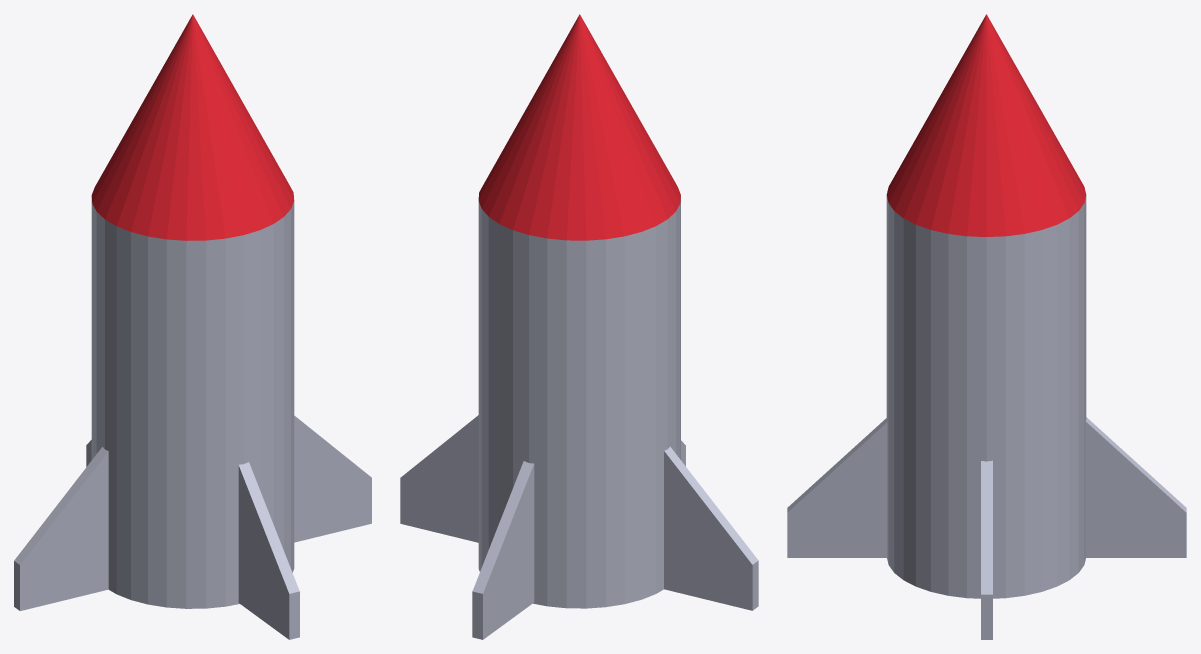
File: rocket.glb
The picture shows the model from 3 angles, left to right: view 1: azimuth 30°, elevation 25°; view 2: azimuth 150°, elevation 25°; view 3: azimuth 270°, elevation 25°; orthographic projection.
Visible parts, largest first — view 1: Cylinder, Cone, Cube, Cube.002, Cube.001; view 2: Cylinder, Cone, Cube, Cube.003, Cube.002; view 3: Cylinder, Cone, Cube.003, Cube.001, Cube.002.
Part boxes in pixels (left/top/right/bottom): Cylinder: left=91, top=198, right=294, bottom=608; Cone: left=91, top=14, right=294, bottom=240; Cube: left=14, top=447, right=108, bottom=610; Cube.002: left=294, top=415, right=371, bottom=542; Cube.001: left=238, top=462, right=299, bottom=639; Cylinder: left=478, top=198, right=680, bottom=608; Cone: left=478, top=14, right=680, bottom=240; Cube: left=664, top=446, right=758, bottom=610; Cube.003: left=472, top=461, right=534, bottom=639; Cube.002: left=400, top=415, right=478, bottom=542; Cylinder: left=886, top=196, right=1086, bottom=598; Cone: left=886, top=14, right=1086, bottom=236; Cube.003: left=1085, top=417, right=1186, bottom=557; Cube.001: left=787, top=418, right=887, bottom=557; Cube.002: left=981, top=460, right=992, bottom=639.
Bounding box in the file's own units: 4 × 6 × 4.
